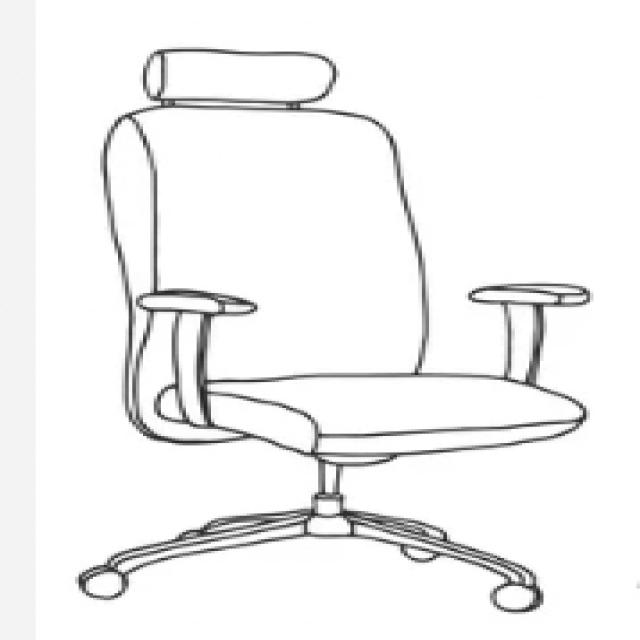5_Star_Base: (53, 482, 561, 622)
Armrest: (120, 279, 267, 439), (460, 274, 597, 393)
Backrest: (98, 103, 431, 419)
Caster_Wheel: (476, 574, 557, 623), (68, 559, 139, 610)
Headrest: (124, 41, 354, 108)
Seat: (155, 372, 592, 458)
